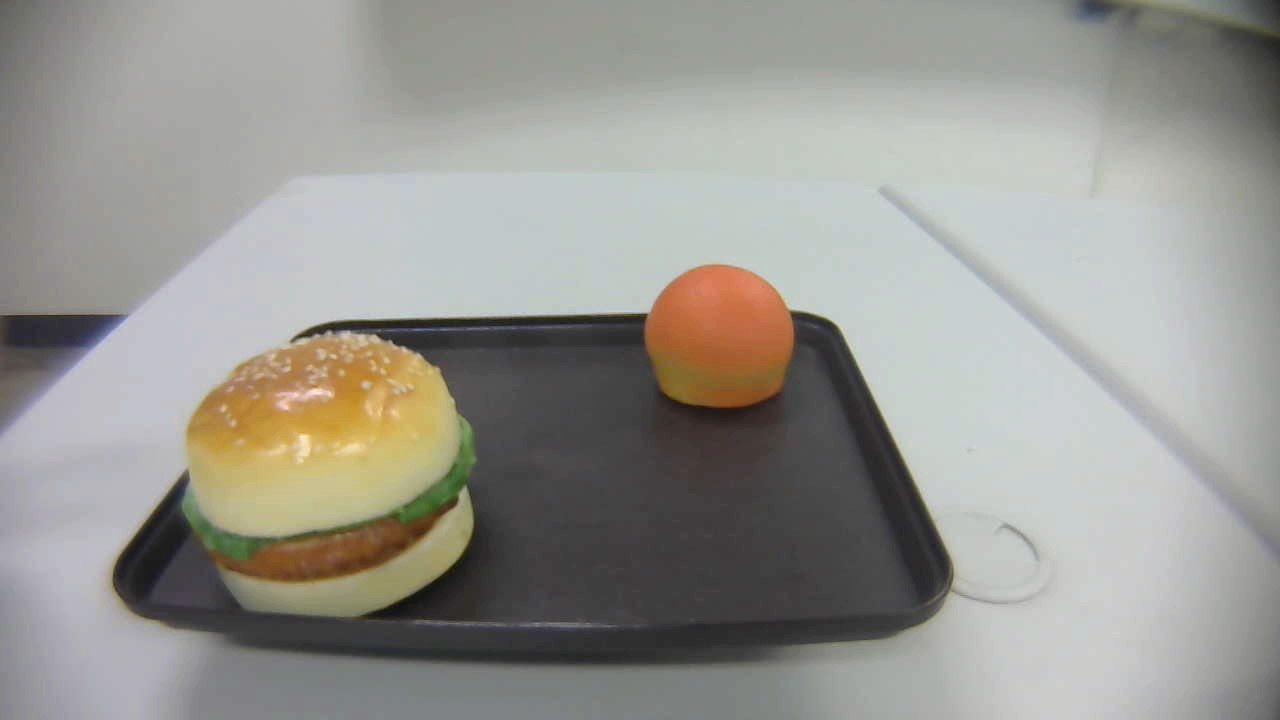bun: (643, 264, 795, 408)
hamburger: (183, 332, 476, 618)
